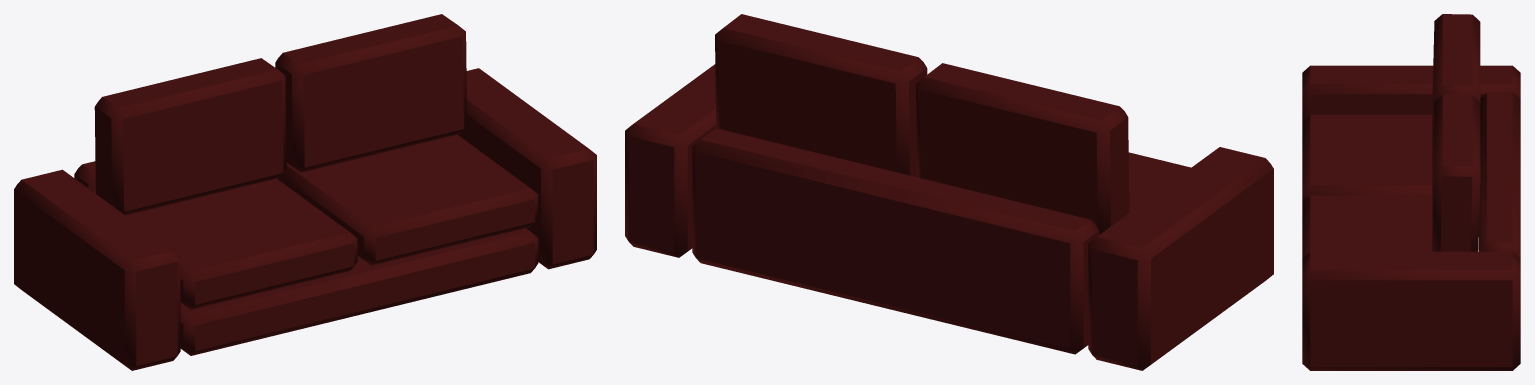
File: Sofa.obj
3 views of the same model, side by side, from view 1: azimuth 30°, elevation 25°; view 2: azimuth 150°, elevation 25°; view 3: azimuth 270°, elevation 25° (orthographic). The views are drawn at different scales.
Visible parts, largest first — view 1: Sofa_Cube.270; view 2: Sofa_Cube.270; view 3: Sofa_Cube.270.
Part boxes in pixels (x1,y1,x2,y2): Sofa_Cube.270: [14, 14, 596, 370]; Sofa_Cube.270: [625, 14, 1273, 370]; Sofa_Cube.270: [1302, 14, 1520, 370].
Bounding box in the file's own units: 3.35 × 1.32 × 1.46.
